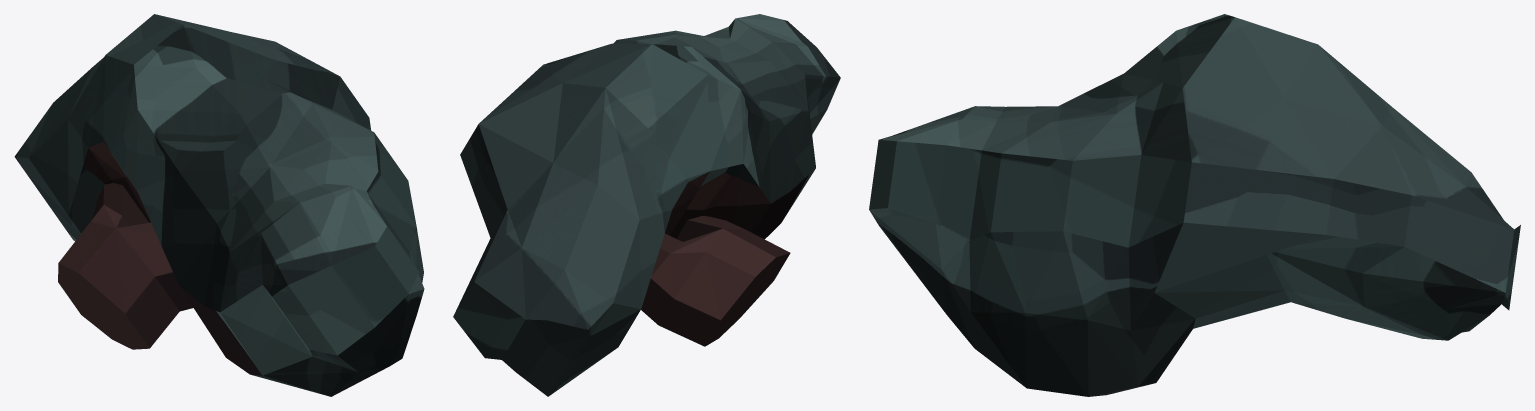
Rendered from olivier_sup.obj.
3 views of the same model, side by side, from view 1: azimuth 30°, elevation 25°; view 2: azimuth 150°, elevation 25°; view 3: azimuth 270°, elevation 25° (orthographic). The views are drawn at different scales.
Parts seen in each view (by area): view 1: Olive1_sup; view 2: Olive1_sup; view 3: Olive1_sup.
Part boxes in pixels (x1=…): Olive1_sup: x1=14, y1=14, x2=424, y2=396; Olive1_sup: x1=453, y1=14, x2=840, y2=396; Olive1_sup: x1=869, y1=14, x2=1520, y2=396.
Size of the model in its own units: 4.7 by 5.15 by 8.93.
1 material, 1 textured.
